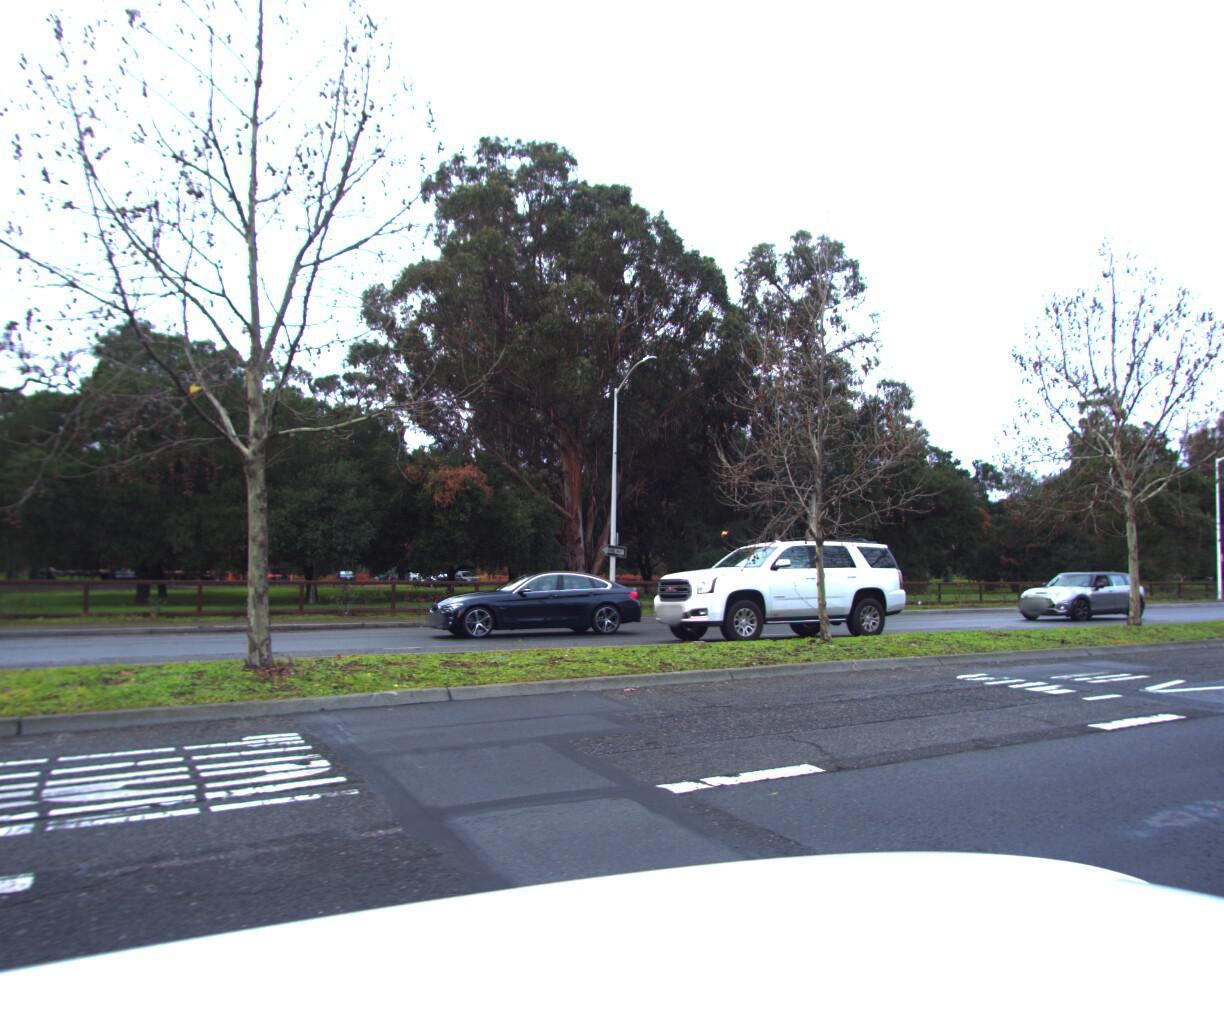car: (645, 529, 904, 648), (421, 560, 652, 641), (1003, 566, 1154, 622)
